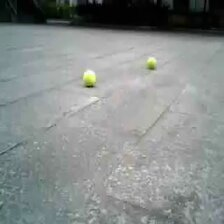tennis: (83, 70, 96, 84), (146, 56, 156, 67)
